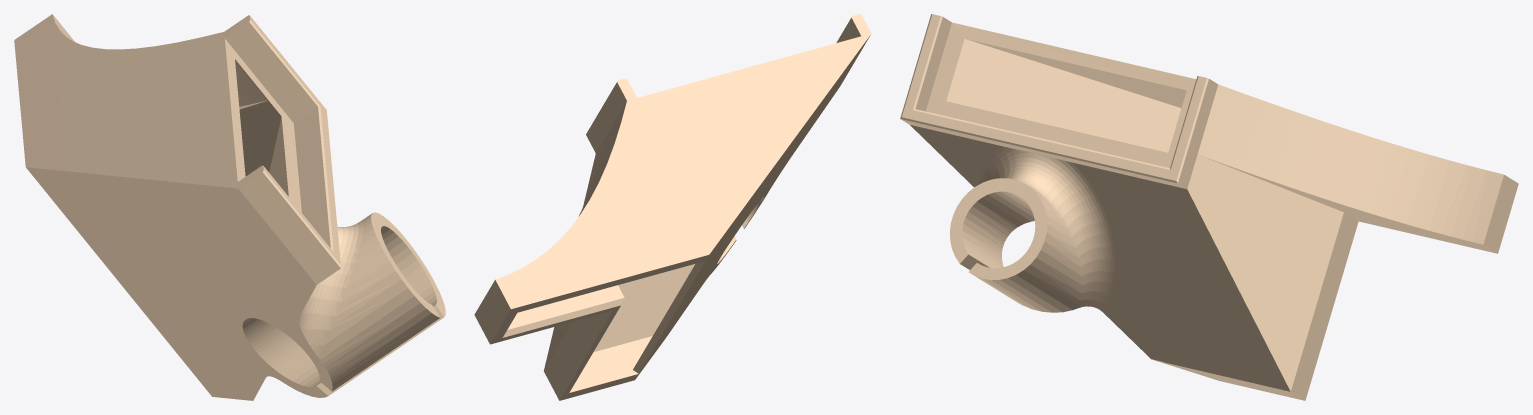
File: nozzle1_2.dae
3 views of the same model, side by side, from view 1: azimuth 30°, elevation 25°; view 2: azimuth 150°, elevation 25°; view 3: azimuth 270°, elevation 25° (orthographic). The views are drawn at different scales.
Parts seen in each view (by area): view 1: nozzle1_019; view 2: nozzle1_019; view 3: nozzle1_019.
Boxes of the visible parts, bbox=[...] form: nozzle1_019: bbox=[14, 14, 445, 400]; nozzle1_019: bbox=[474, 14, 871, 400]; nozzle1_019: bbox=[900, 14, 1518, 400].
Bounding box in the file's own units: 0.0458 × 0.1215 × 0.069.
